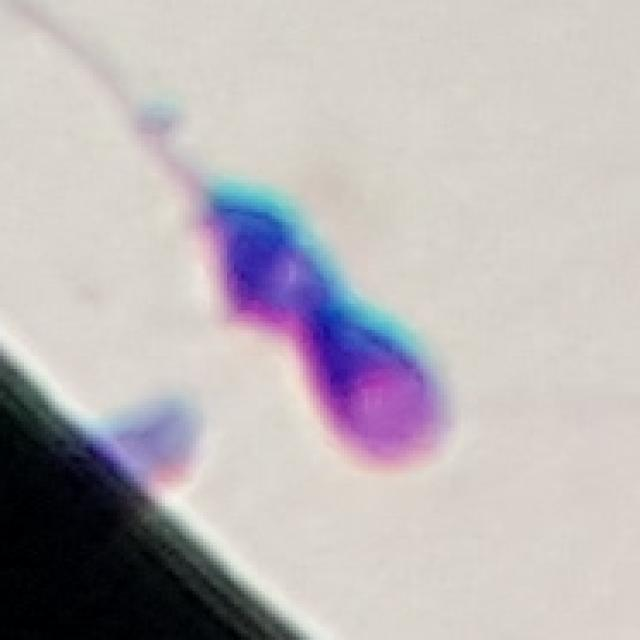abnormal sperm: (108, 125, 485, 478)
